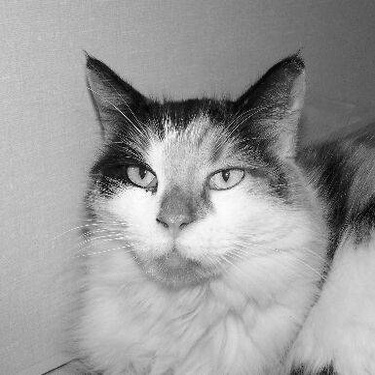cat: (64, 49, 369, 371)
